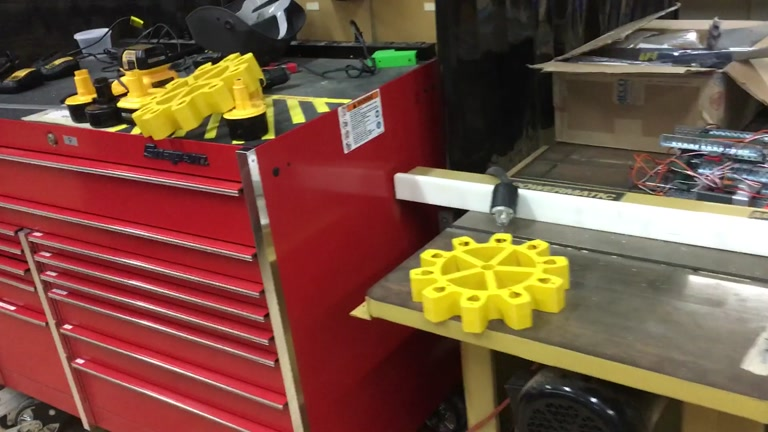gear: (408, 231, 570, 335), (132, 51, 265, 142)
